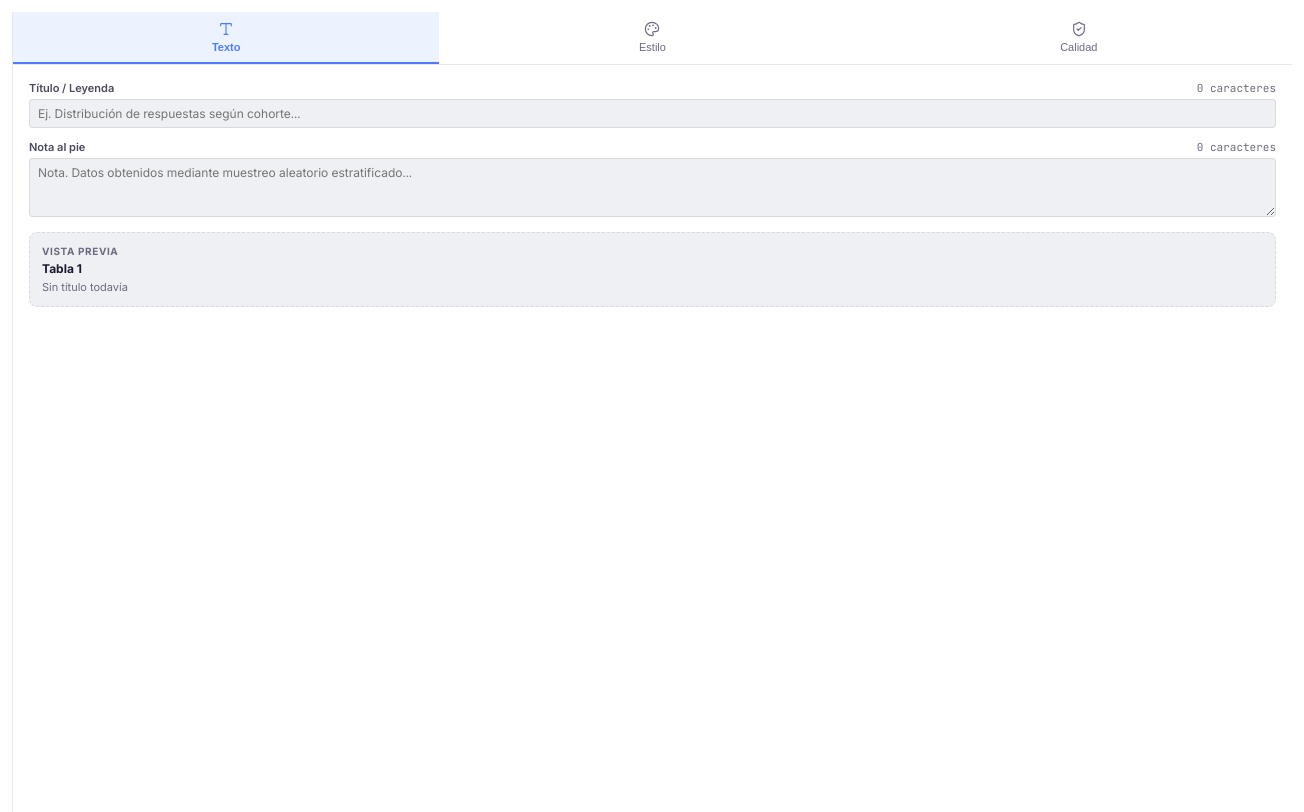
Test case: InspectorActivoTabs — estilo de tabla › ofrece la pestaña Estilo a una tabla y muestra el selector
Click the tab "Estilo" at (652, 38), box [439,12,866,64]
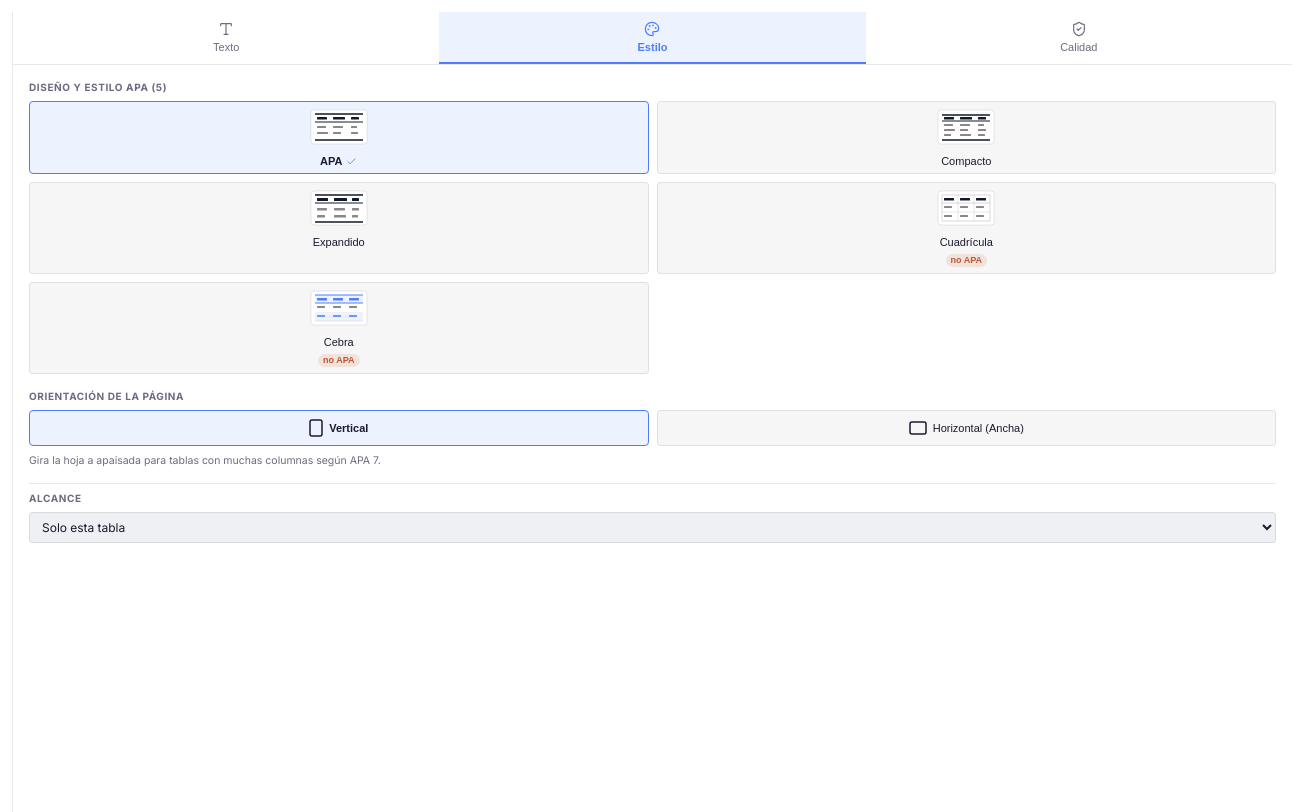
Check: the button with aria-label "estilo de tabla: apa" is shown, box [29,101,648,174]
Check: the button "Vertical" is shown, box [29,410,648,446]
Check: the button "Horizontal (Ancha)" is shown, box [656,410,1276,446]
